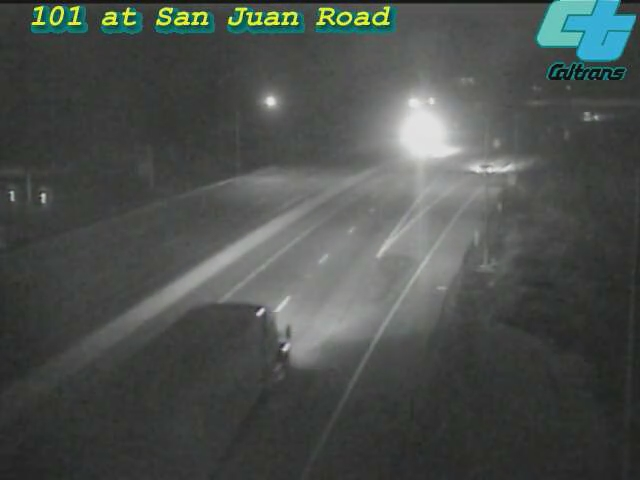vehicle: (145, 321, 255, 431), (445, 128, 525, 208), (393, 107, 443, 157), (568, 91, 618, 141), (423, 123, 473, 173)
